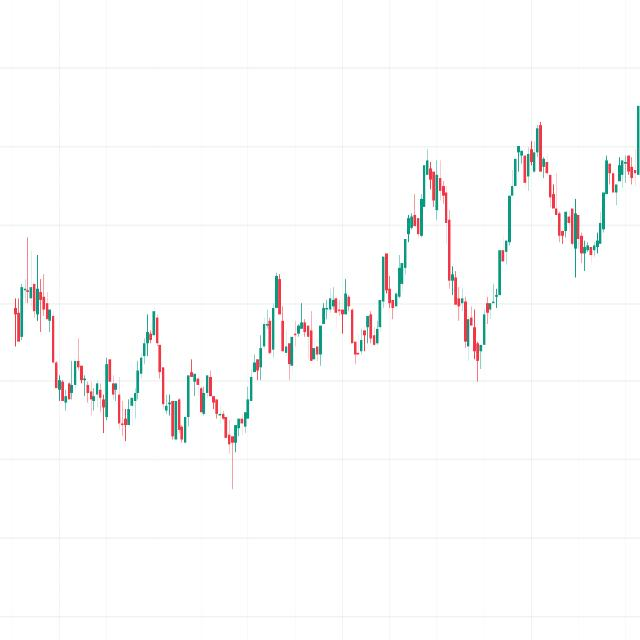Triple-Bottom: (46, 314, 150, 438)
